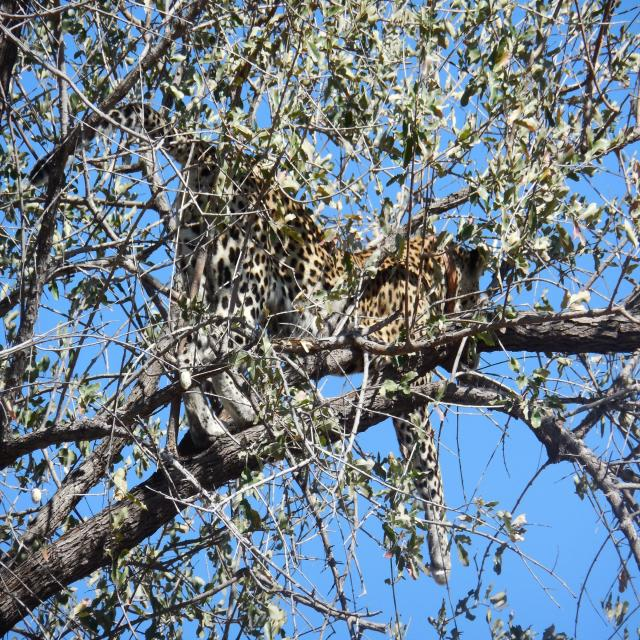Leopard: (40, 122, 498, 513)
